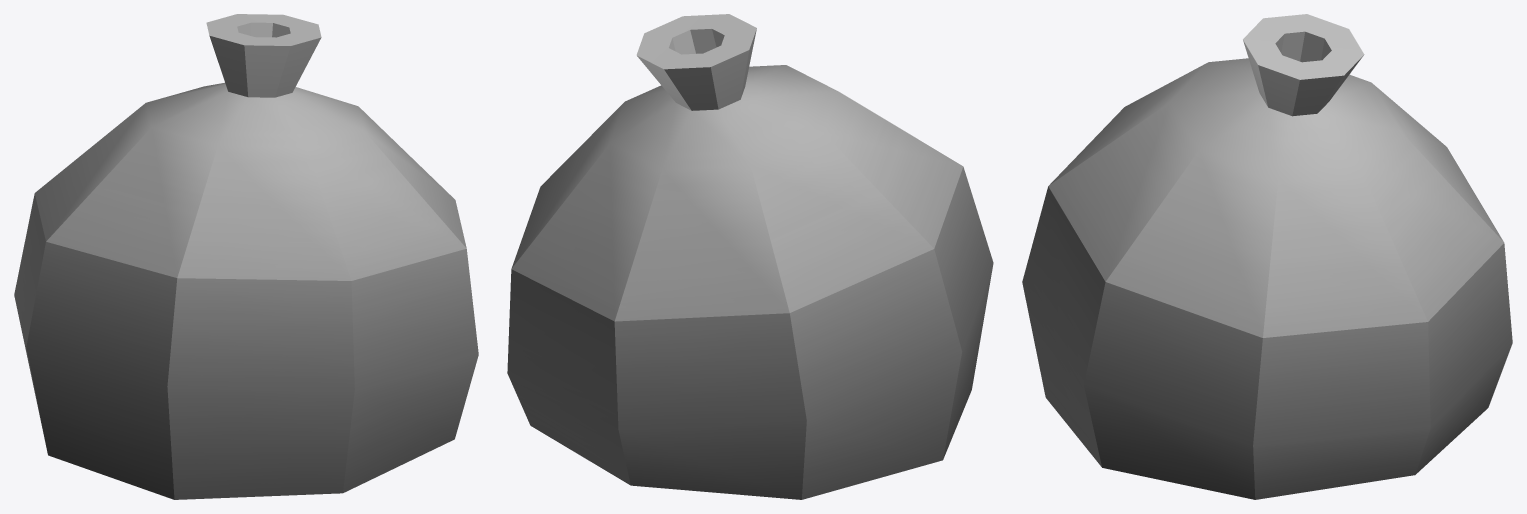
The model's file is Rubbish_Bag.glb.
3 views of the same model, side by side, from view 1: azimuth 30°, elevation 25°; view 2: azimuth 150°, elevation 25°; view 3: azimuth 270°, elevation 25° (orthographic). The views are drawn at different scales.
Visible parts, largest first — view 1: GarbageBag; view 2: GarbageBag; view 3: GarbageBag.
Boxes of the visible parts, x1,y1,x2,y2 form: GarbageBag: (14,14,478,499); GarbageBag: (507,14,993,499); GarbageBag: (1022,14,1512,499).
Bounding box in the file's own units: 0.9837 × 0.8601 × 0.9469.
Materials: 1 (1 with a texture image).
